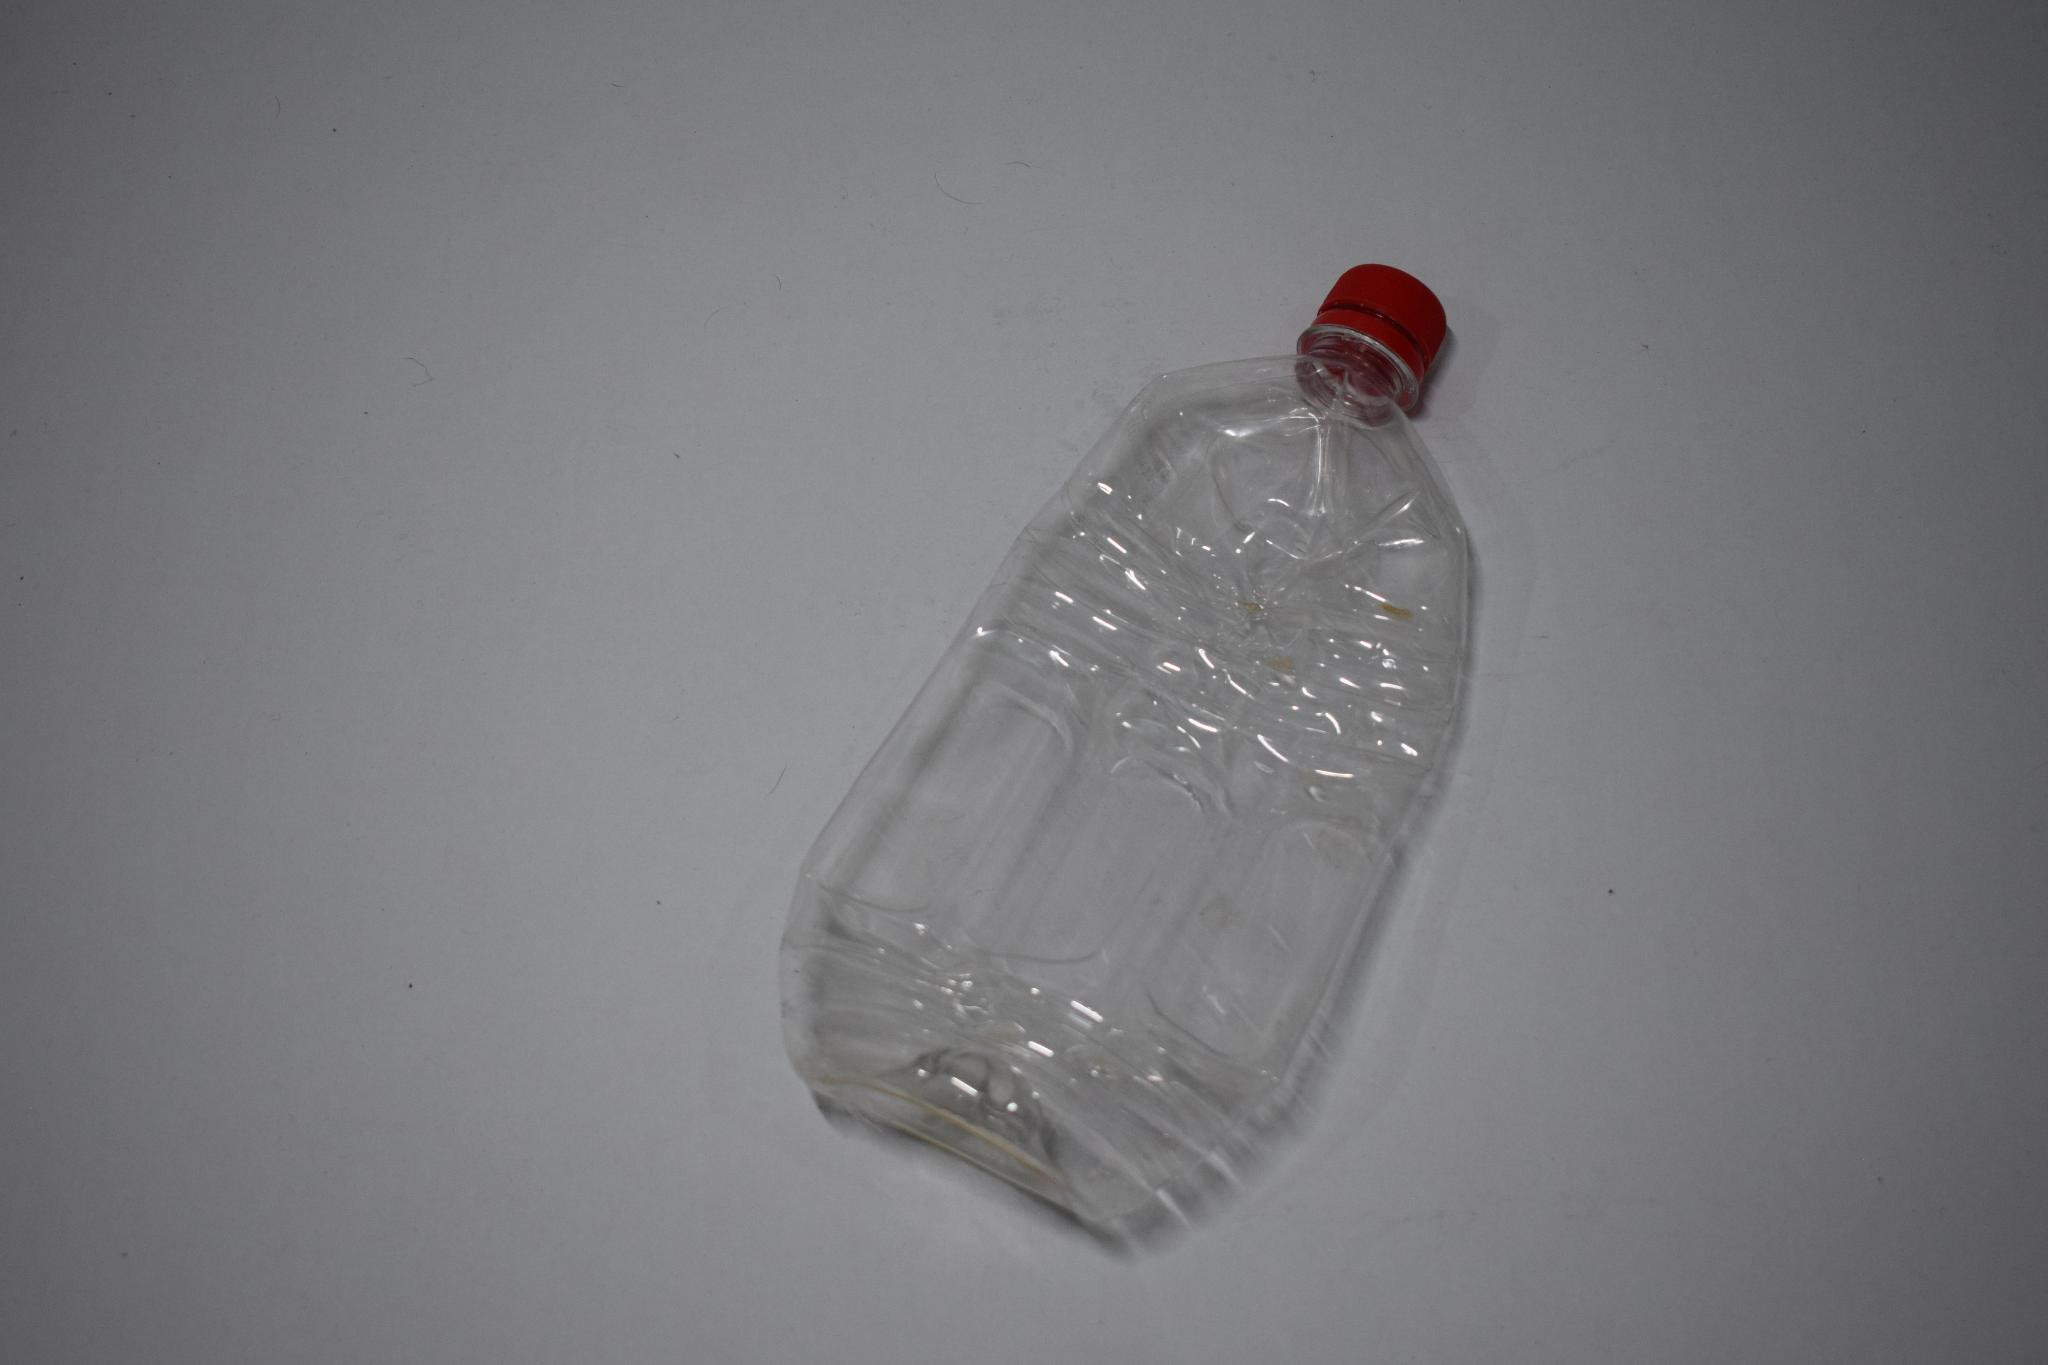bottle: (750, 243, 1542, 1276)
